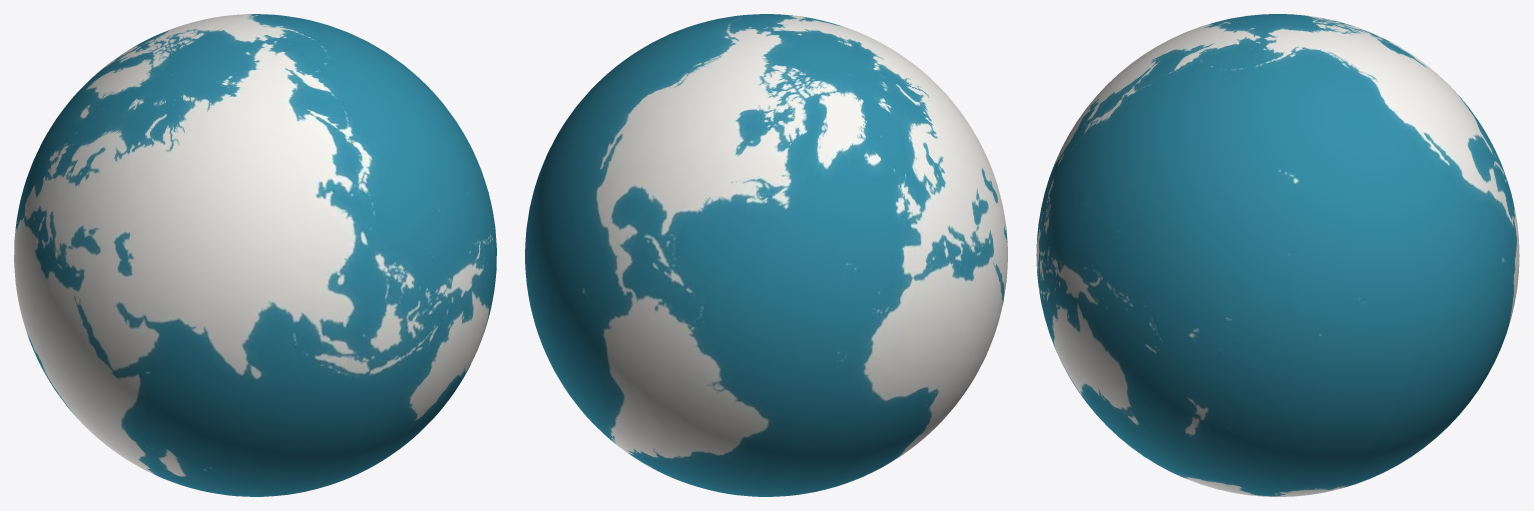
Rendered from globe.glb.
3 renders of one model, left to right at view 1: azimuth 30°, elevation 25°; view 2: azimuth 150°, elevation 25°; view 3: azimuth 270°, elevation 25°, orthographic.
Parts seen in each view (by area): view 1: ball; view 2: ball; view 3: ball.
Boxes of the visible parts, x1,y1,x2,y2 form: ball: (14,14,496,496); ball: (525,14,1007,496); ball: (1036,14,1519,496).
Size of the model in its own units: 2 by 2 by 2.
Materials: 1 (1 with a texture image).
